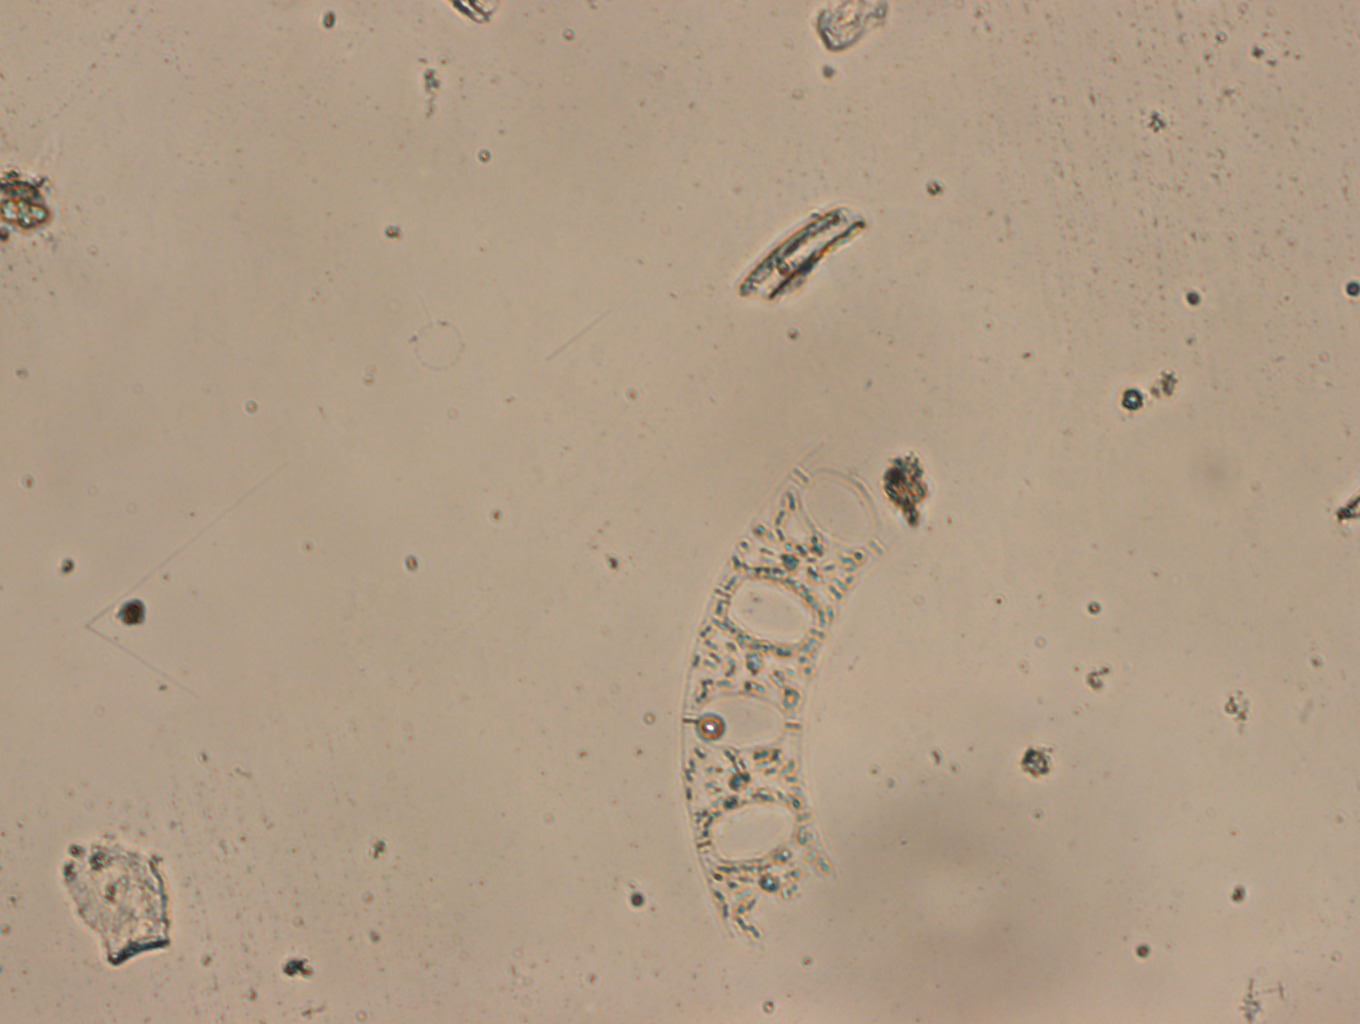eucampia: (679, 445, 912, 947)
